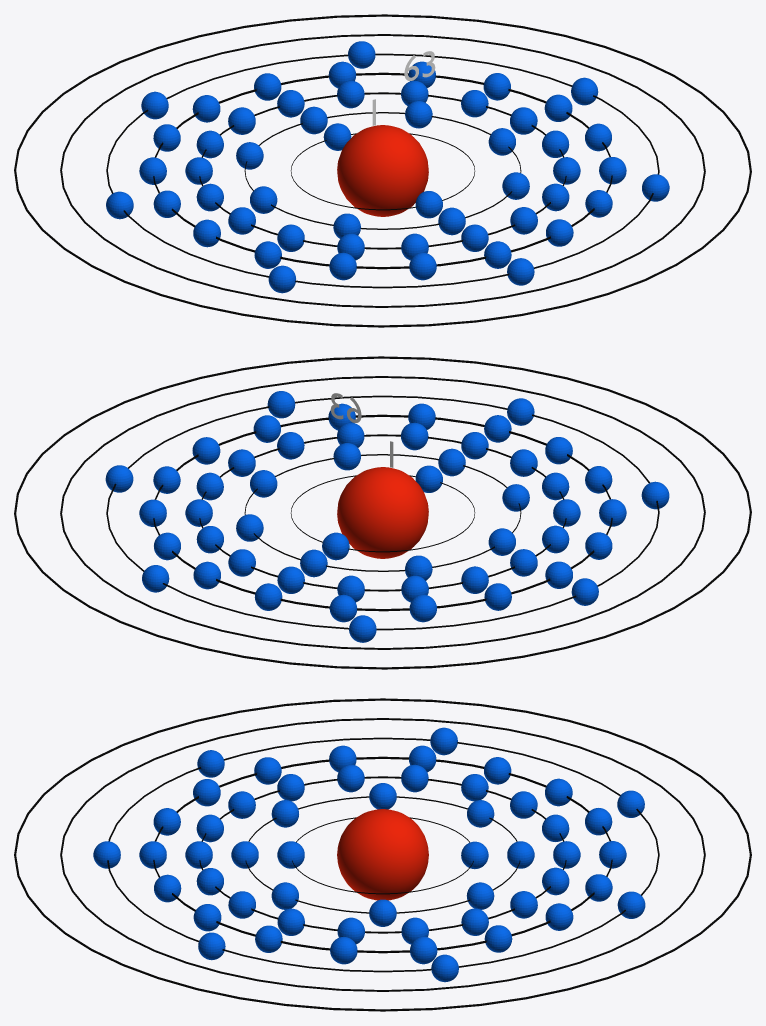
3 renders of one model, top to bottom at view 1: azimuth 30°, elevation 25°; view 2: azimuth 150°, elevation 25°; view 3: azimuth 270°, elevation 25°, orthographic.
Visible parts, largest first — view 1: I3, I4, Proton, I2, n7, I5, n6, n5, n4, I1, n3, n2; view 2: I3, I4, Proton, I2, n7, I5, n6, n5, n4, I1, n3, n2; view 3: I3, I4, Proton, I2, n7, I5, n6, n5, n4, I1, n3, n2 (+1 smaller).
Part boxes in pixels (x1,y1,x2,y2): I3: [185, 80, 580, 260]; I4: [139, 61, 626, 280]; Proton: [337, 125, 428, 216]; I2: [236, 101, 529, 238]; n7: [14, 14, 751, 327]; I5: [106, 41, 669, 293]; n6: [60, 34, 705, 307]; n5: [106, 53, 659, 288]; n4: [153, 72, 612, 269]; I1: [323, 123, 442, 218]; n3: [199, 92, 566, 249]; n2: [244, 112, 521, 229]; I3: [185, 422, 580, 602]; I4: [139, 403, 626, 622]; Proton: [337, 467, 428, 558]; I2: [236, 443, 529, 580]; n7: [14, 356, 751, 669]; I5: [105, 391, 669, 642]; n6: [60, 376, 705, 649]; n5: [106, 395, 659, 630]; n4: [153, 414, 612, 611]; I1: [322, 465, 442, 560]; n3: [199, 434, 566, 591]; n2: [244, 454, 521, 571]; I3: [185, 764, 580, 944]; I4: [139, 745, 626, 964]; Proton: [337, 809, 428, 900]; I2: [231, 783, 534, 926]; n7: [14, 698, 751, 1011]; I5: [93, 727, 645, 982]; n6: [60, 718, 705, 991]; n5: [107, 737, 659, 972]; n4: [153, 756, 612, 953]; I1: [277, 841, 488, 869]; n3: [199, 776, 566, 933]; n2: [245, 796, 520, 913].
Size of the model in its own units: 802 by 180 by 802.
